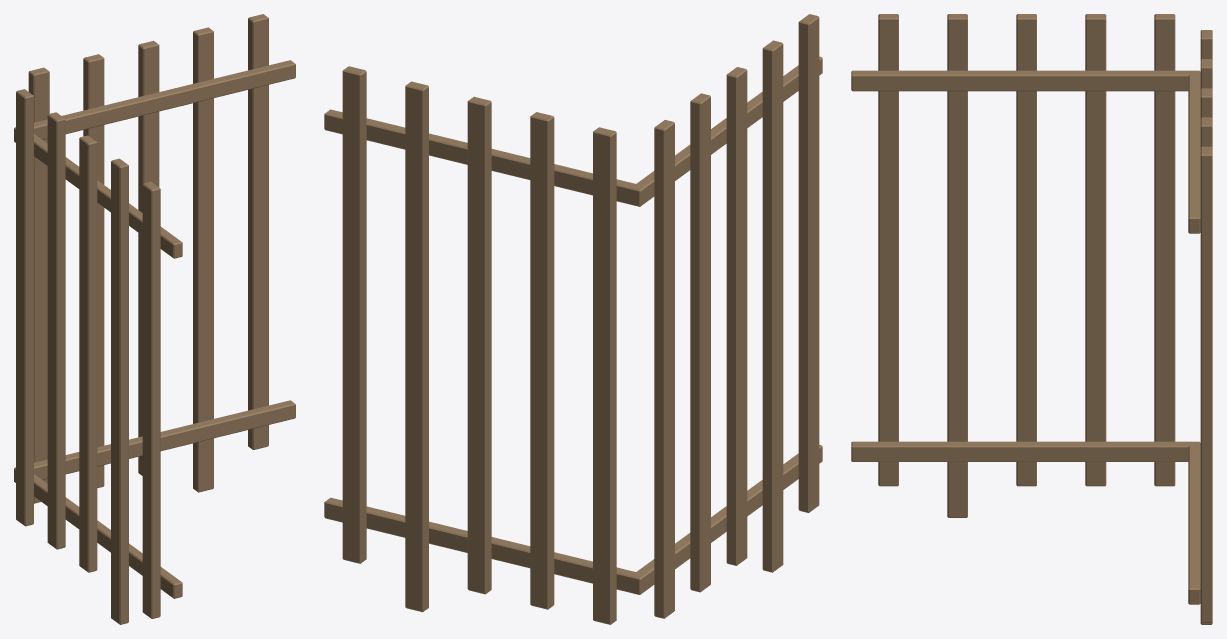
File: Garden_Hedge_Long_Corner.FBX
The picture shows the model from 3 angles, left to right: view 1: azimuth 30°, elevation 25°; view 2: azimuth 150°, elevation 25°; view 3: azimuth 270°, elevation 25°; orthographic projection. The views are drawn at different scales.
Visible parts, largest first — view 1: Garden_Hedge_Long_Corner; view 2: Garden_Hedge_Long_Corner; view 3: Garden_Hedge_Long_Corner.
Boxes of the visible parts, x1=… form: Garden_Hedge_Long_Corner: x1=14, y1=14, x2=295, y2=624; Garden_Hedge_Long_Corner: x1=324, y1=14, x2=822, y2=624; Garden_Hedge_Long_Corner: x1=851, y1=14, x2=1212, y2=624.
Size of the model in its own units: 40.78 by 62.2 by 40.78.
